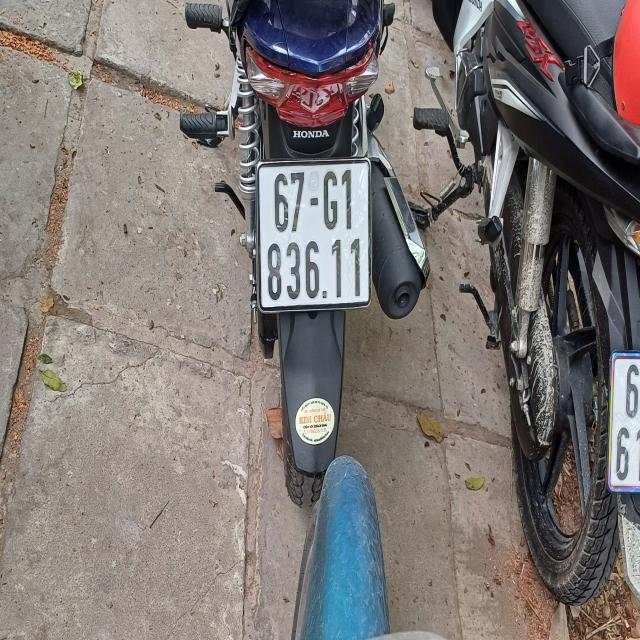1: (329, 241, 343, 301), (350, 239, 362, 298), (342, 168, 353, 232)
3: (286, 240, 300, 302)
6: (274, 171, 290, 233), (304, 238, 320, 300)
7: (290, 171, 304, 232)
8: (268, 240, 282, 300)
G: (323, 170, 338, 232)
